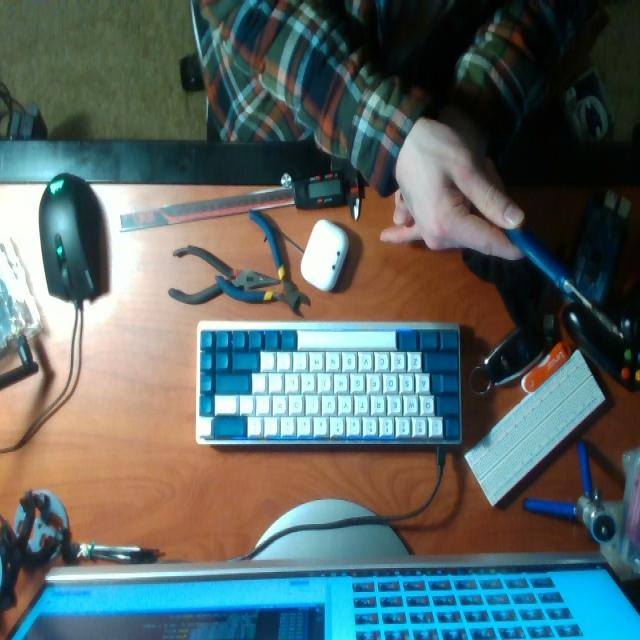keyboard: (196, 324, 461, 444)
